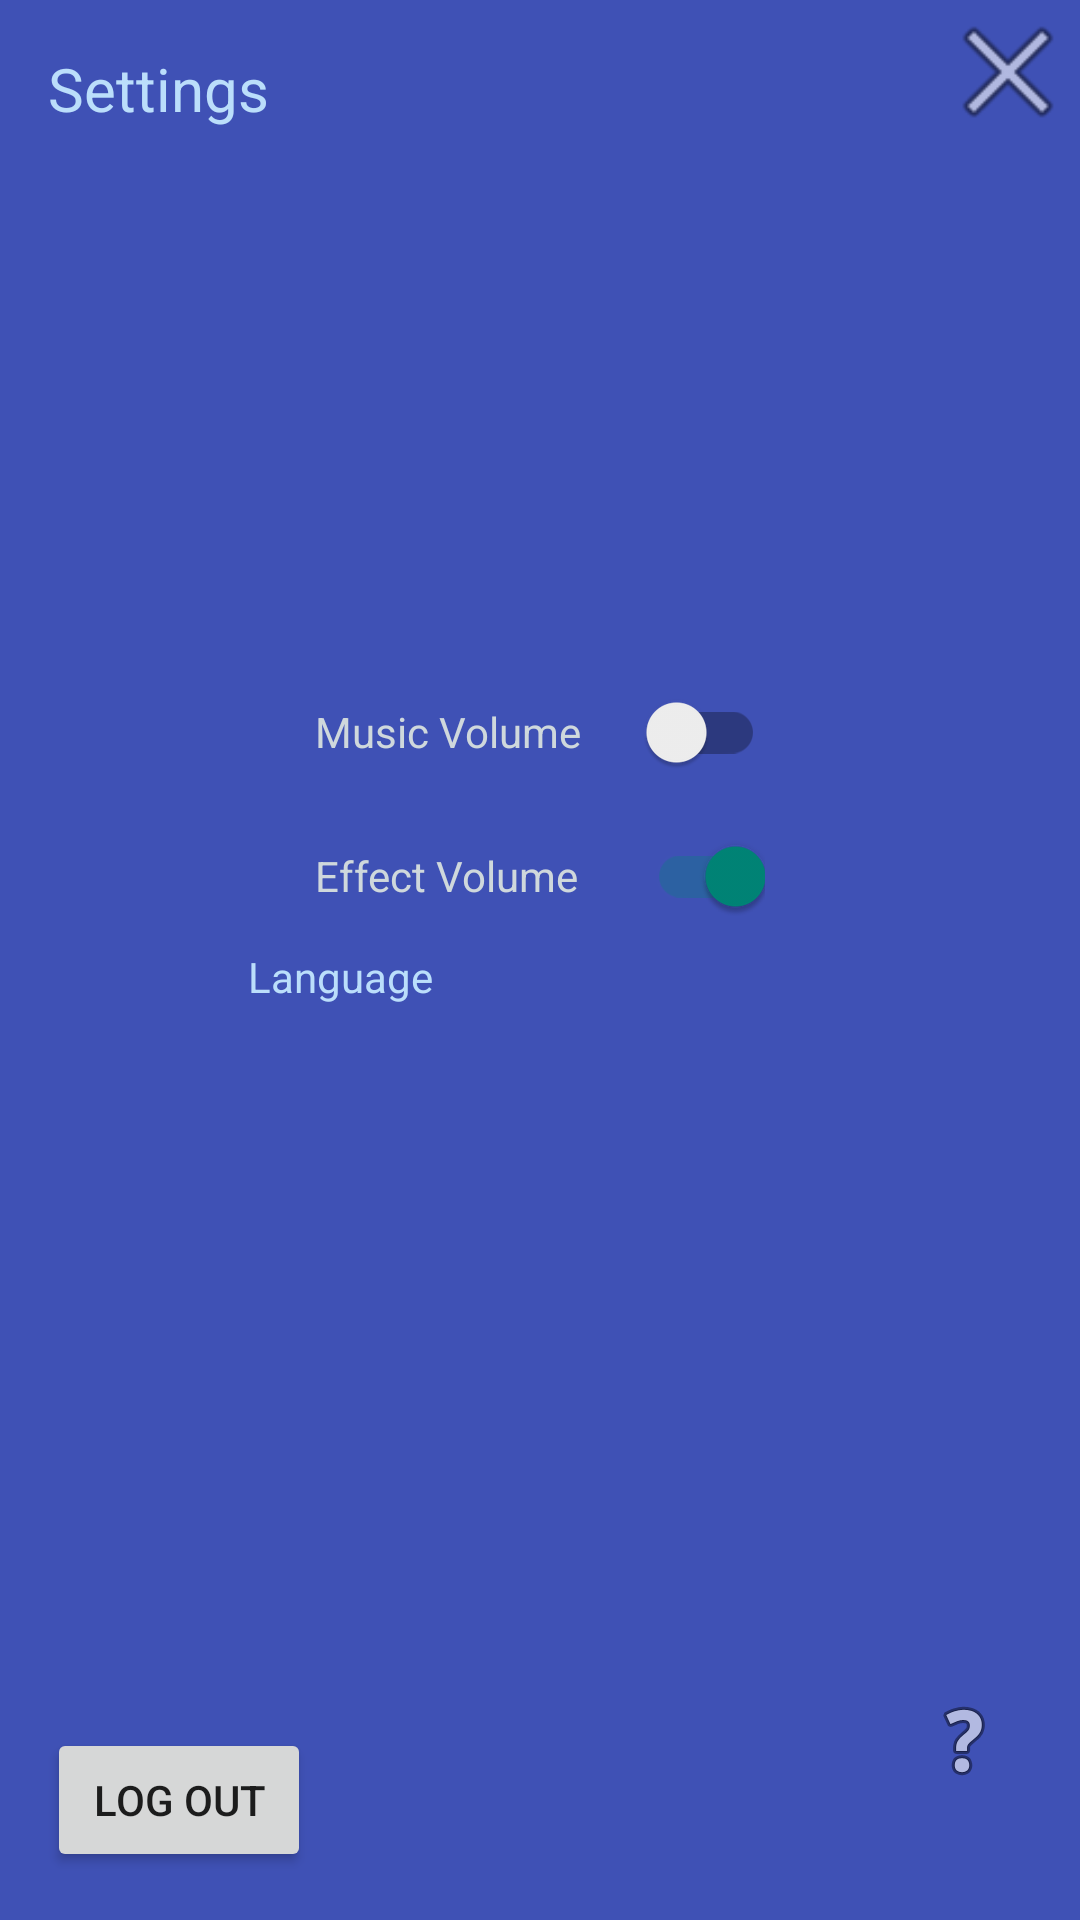

Named icons in this screenshot (1080×1920) and their bounding boxes, (x1, y1, x2, y2):
close clear cancel: (963, 27, 1053, 117)
help: (943, 1707, 985, 1775)
